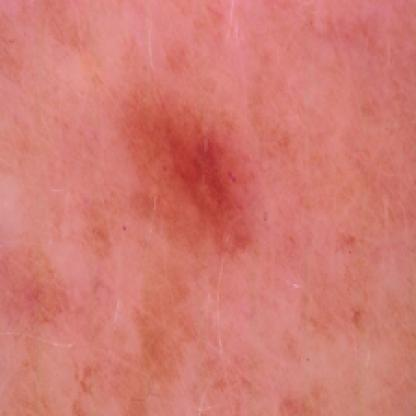benign: (124, 87, 282, 282)
